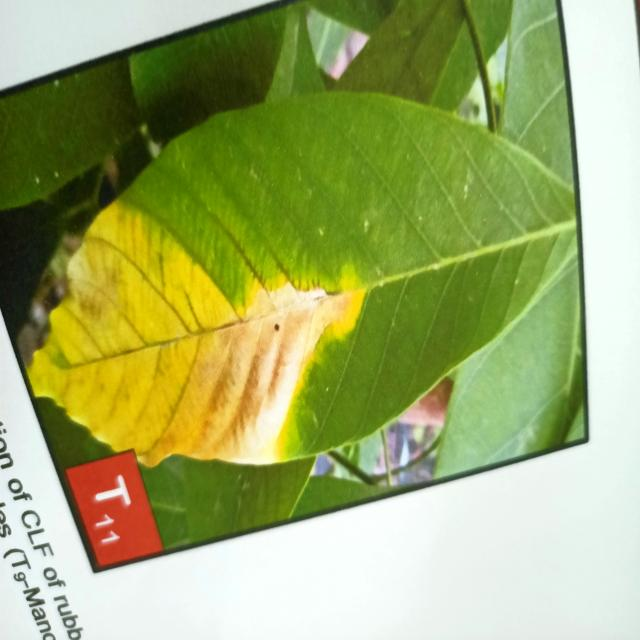Corynespora: (228, 233, 270, 296), (269, 248, 298, 292)
Leaf-Blight: (27, 201, 366, 468)
